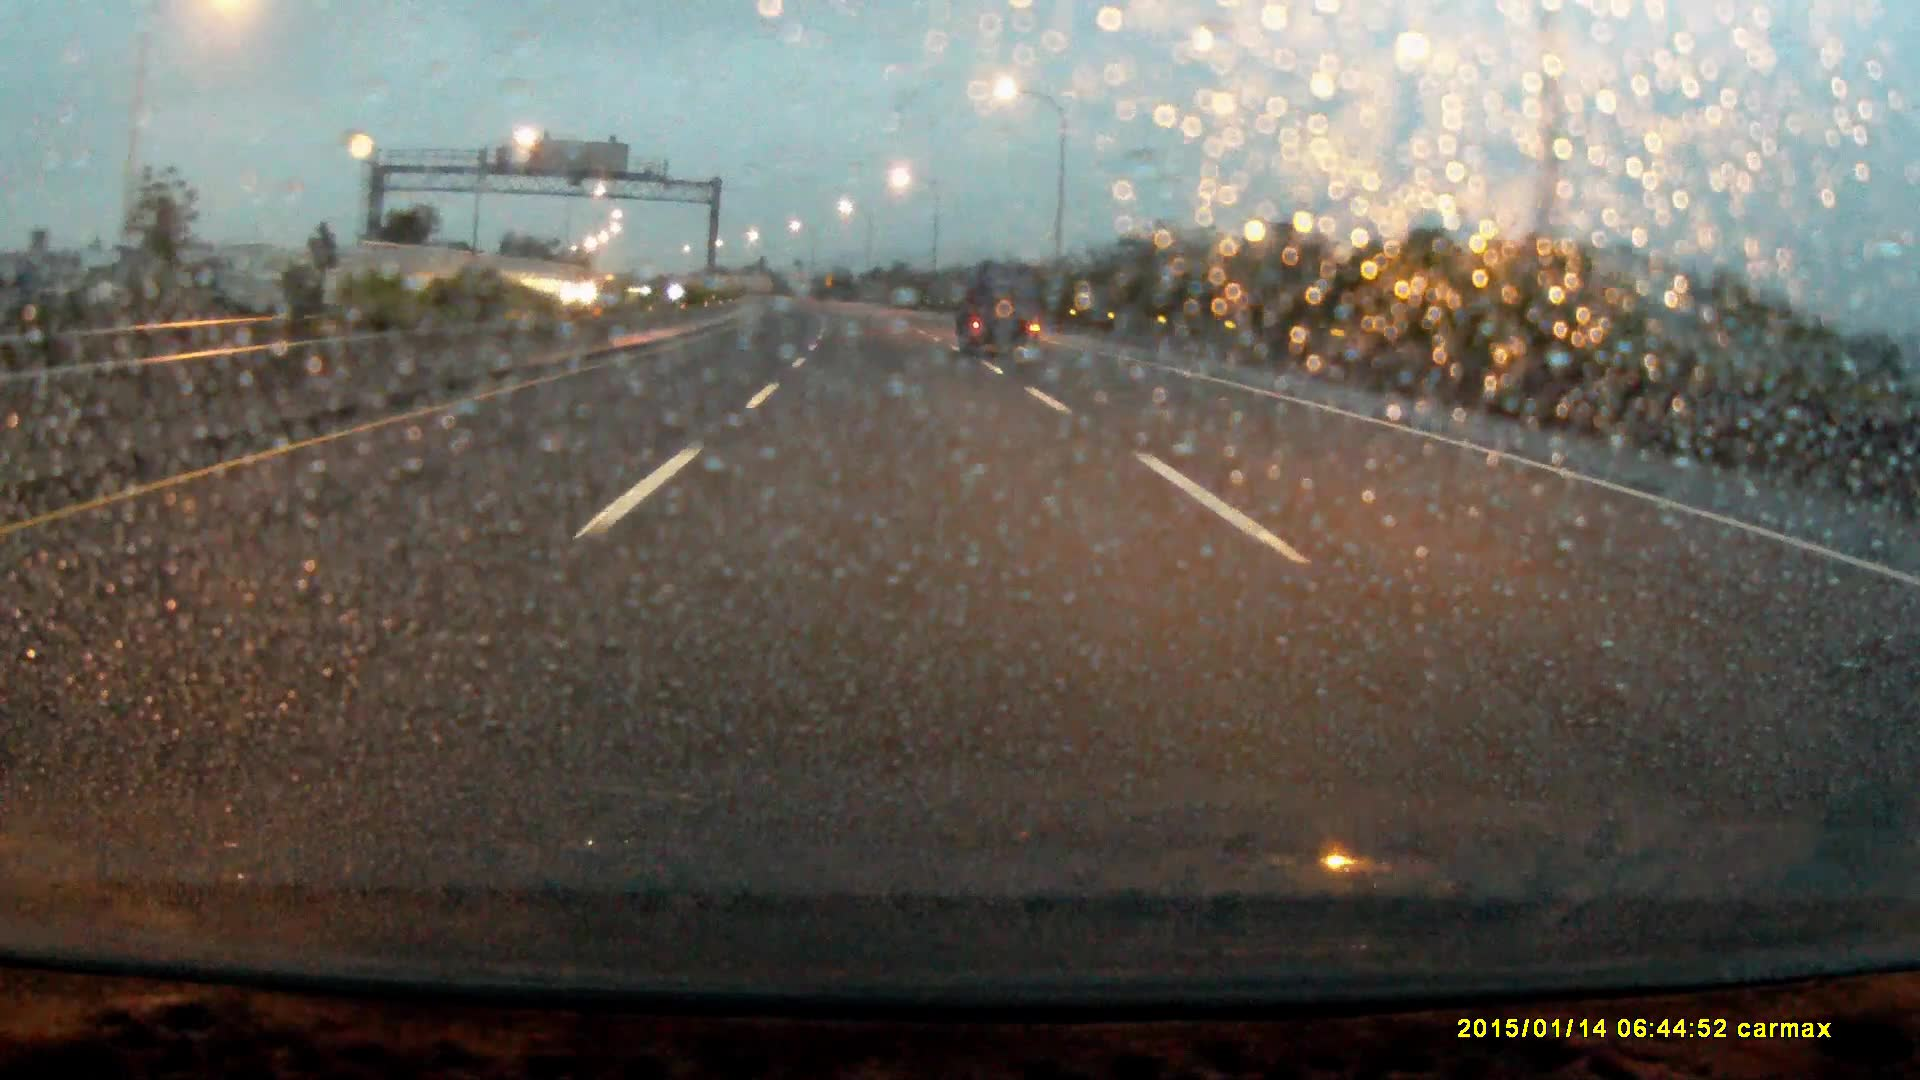vehicle: (959, 272, 1046, 361), (560, 272, 604, 307)
